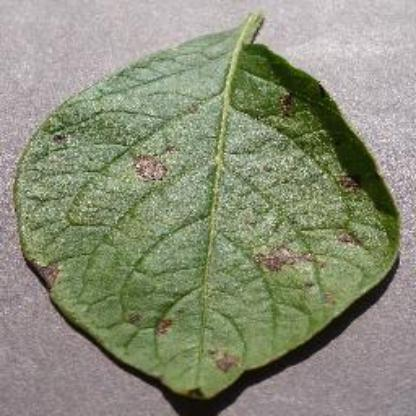Early-Blight: (15, 5, 405, 401)
